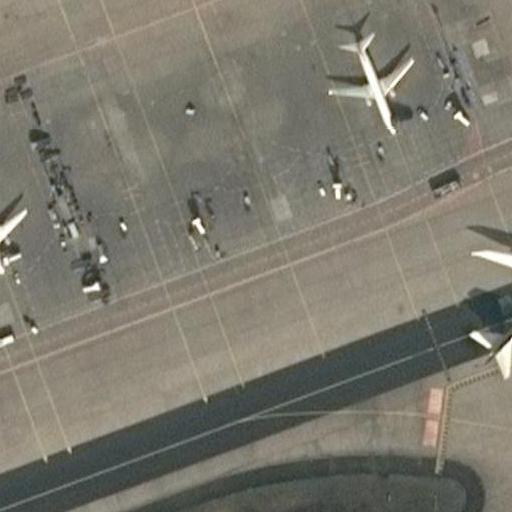Aircraft: (312, 24, 417, 139), (446, 208, 512, 386), (0, 177, 28, 274)
